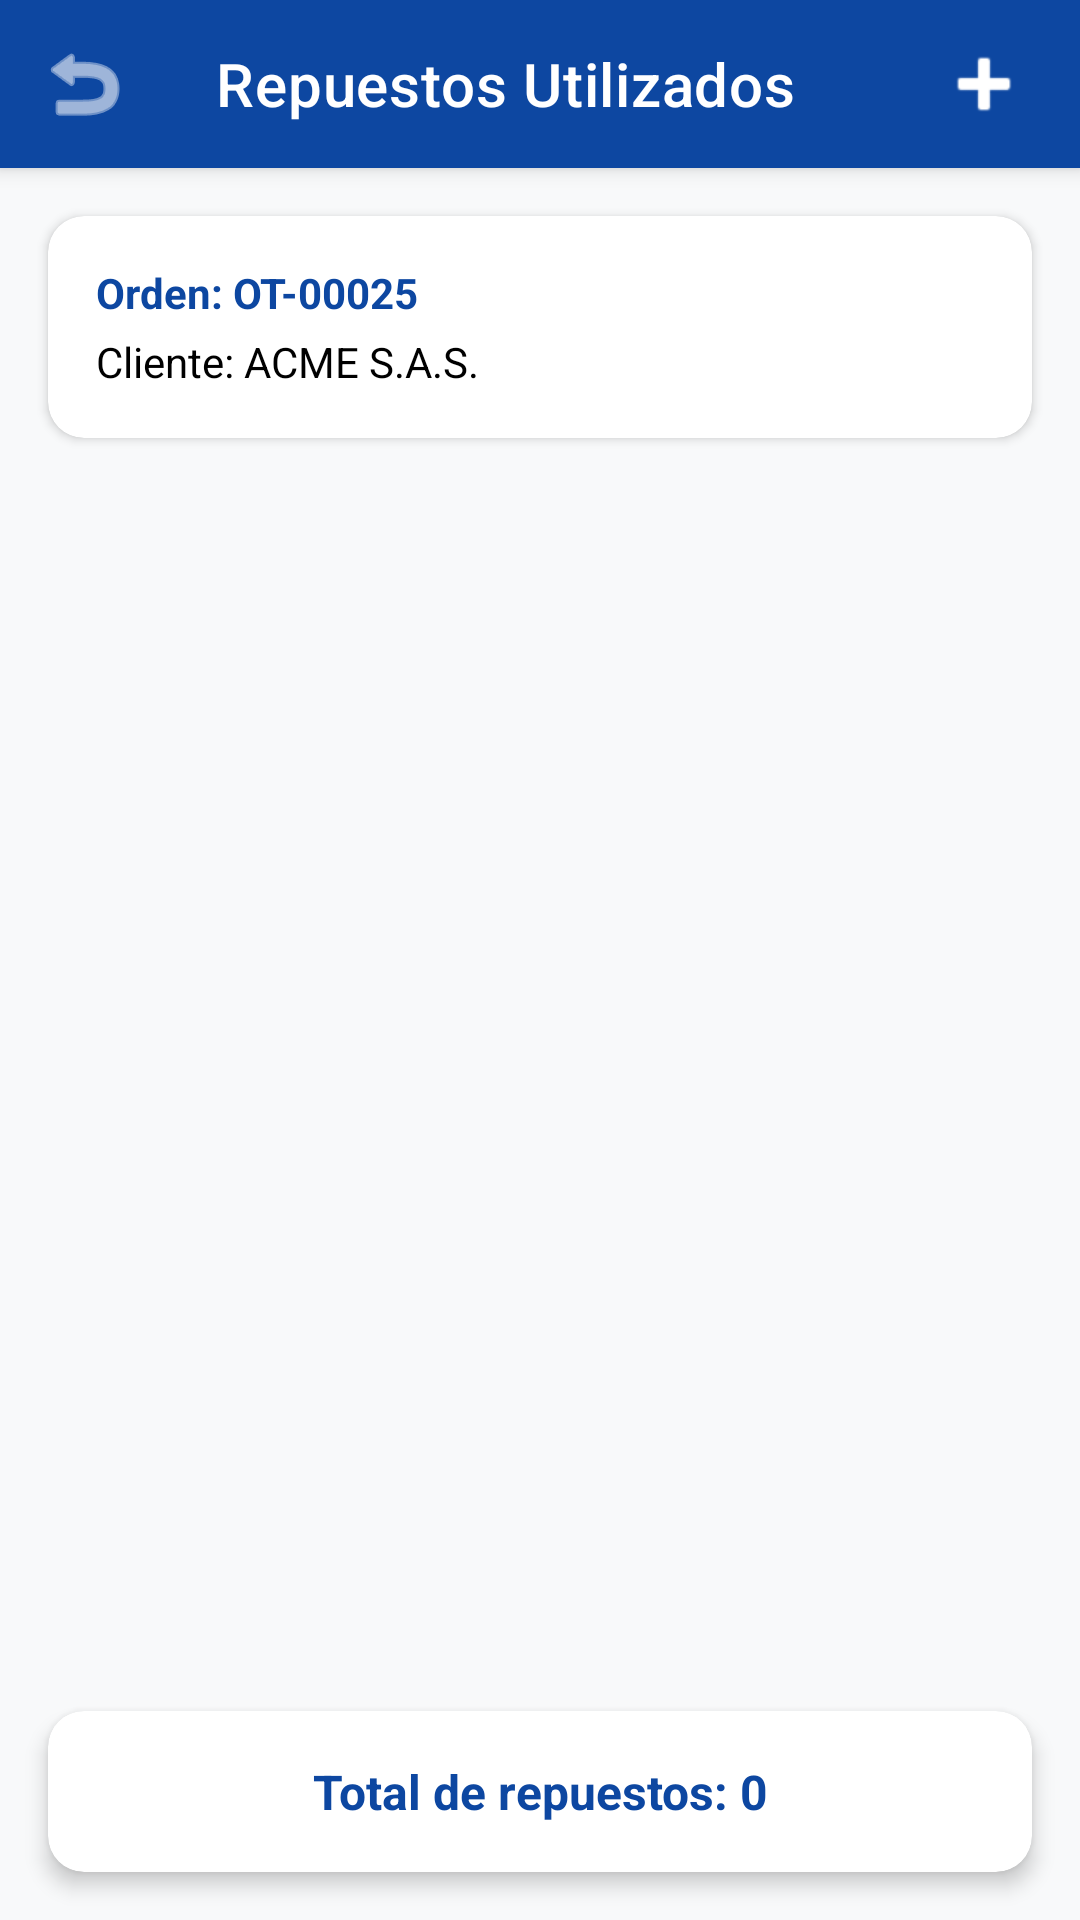

Named icons in this screenshot (1080w x 1920h) and their centers, (x,y):
Agregar repuesto: (984,84)
